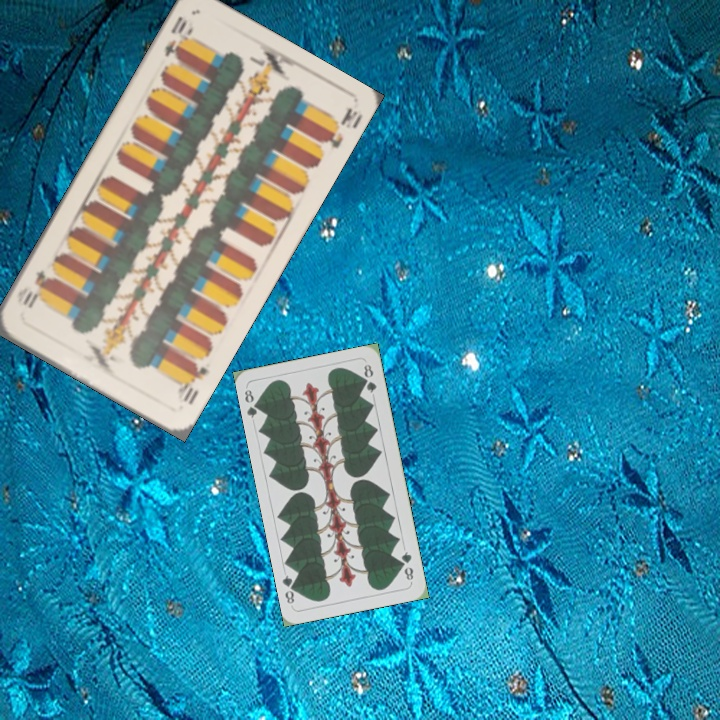E10: (173, 358, 211, 408), (160, 12, 197, 62)
G8: (240, 386, 264, 421), (397, 547, 416, 583)
